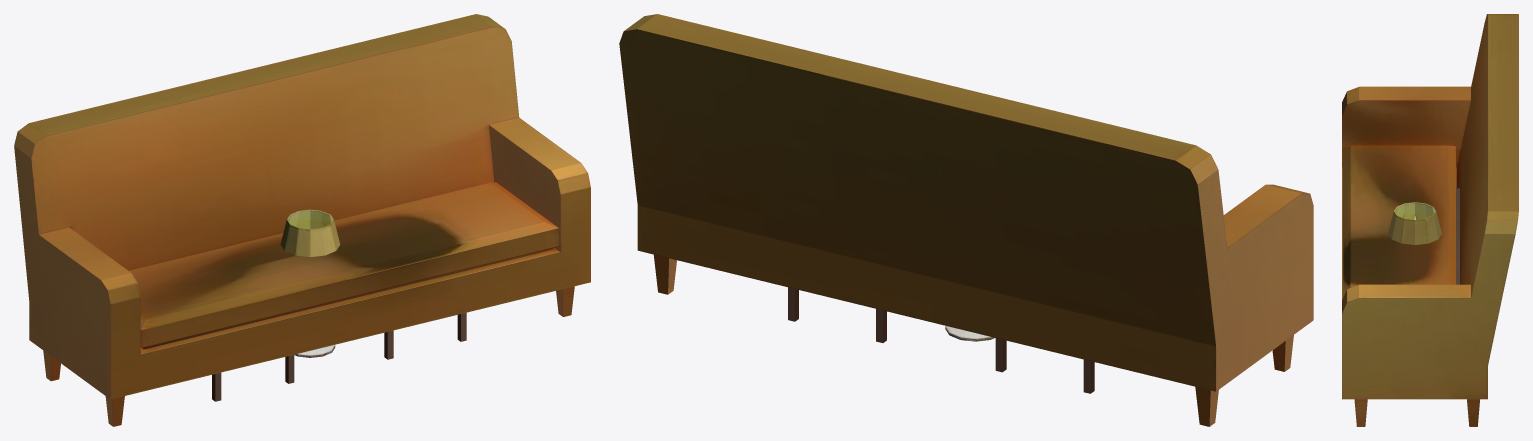
Rendered from video-store-furniture.glb.
The picture shows the model from 3 angles, left to right: view 1: azimuth 30°, elevation 25°; view 2: azimuth 150°, elevation 25°; view 3: azimuth 270°, elevation 25°; orthographic projection. The views are drawn at different scales.
Parts seen in each view (by area): view 1: couch, lamp, side_table, coffee_table; view 2: couch, side_table, coffee_table; view 3: couch, lamp, side_table, coffee_table.
Part boxes in pixels (<box>): couch: <box>14,14,590,426</box>; lamp: <box>280,209,340,357</box>; side_table: <box>285,330,393,383</box>; coffee_table: <box>212,312,466,401</box>; couch: <box>619,14,1313,426</box>; side_table: <box>876,309,1006,372</box>; coffee_table: <box>788,287,1094,393</box>; couch: <box>1342,14,1518,426</box>; lamp: <box>1388,202,1441,244</box>; side_table: <box>1456,220,1459,271</box>; coffee_table: <box>1456,188,1459,284</box>.
Size of the model in its own units: 2.2 by 1.04 by 0.7788.
Materials: 4 (4 with a texture image).
